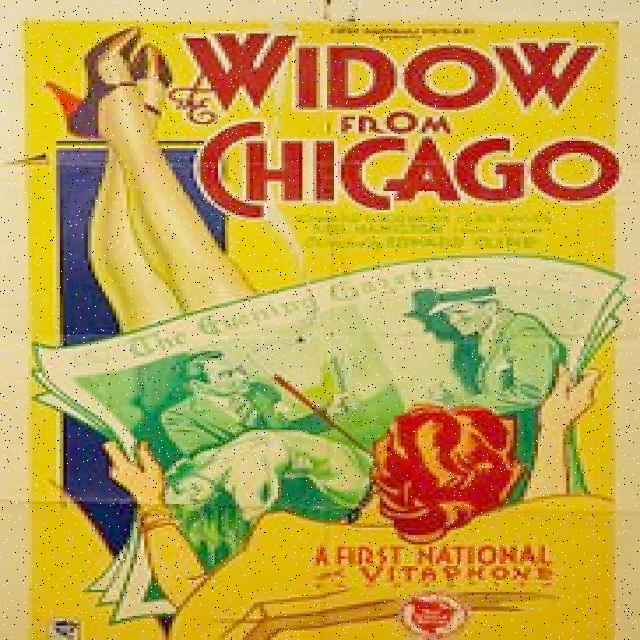movie-judul: (171, 25, 631, 216)
picture: (32, 27, 629, 640)
